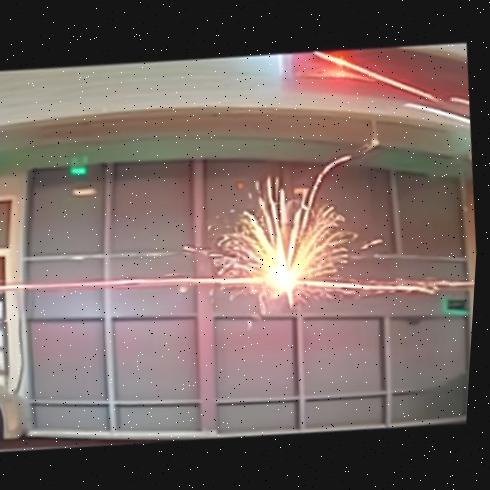fire: (162, 49, 436, 338)
